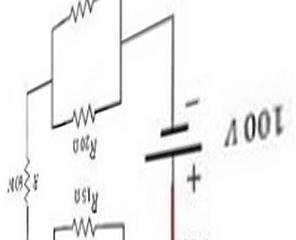resistor: (62, 90, 105, 128), (61, 212, 109, 236), (55, 4, 100, 21), (21, 152, 30, 197)
